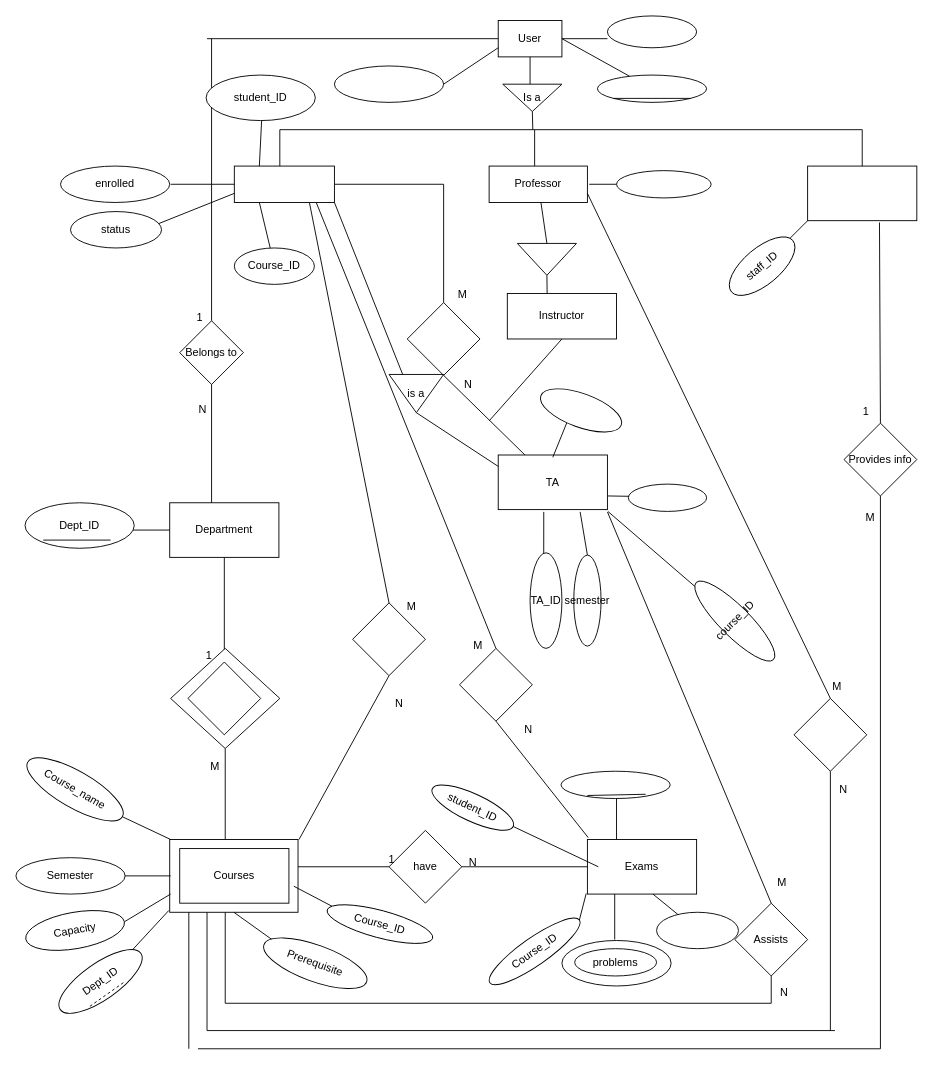
Image size: 933x1066. Some labels were removed from this diagram. The shapes that lost their labels are listed below. From the top down, each one's box as (x1, y1, x2, y2) in pixels, then its label:
(607, 15, 697, 48): Password
(334, 65, 444, 102): displayname
(597, 74, 707, 102): username
(233, 165, 334, 202): Student
(616, 170, 711, 198): Prof_ID
(807, 165, 917, 221): Staff
(516, 243, 576, 275): has to be
(406, 302, 480, 375): Provides feedback
(534, 379, 627, 441): TA_name
(627, 483, 707, 511): feedback
(352, 602, 425, 676): Enroll
(187, 661, 261, 735): Provides
(459, 647, 532, 721): graded
(793, 698, 867, 771): teach
(560, 770, 670, 799): exam_ID
(656, 911, 738, 949): grade
